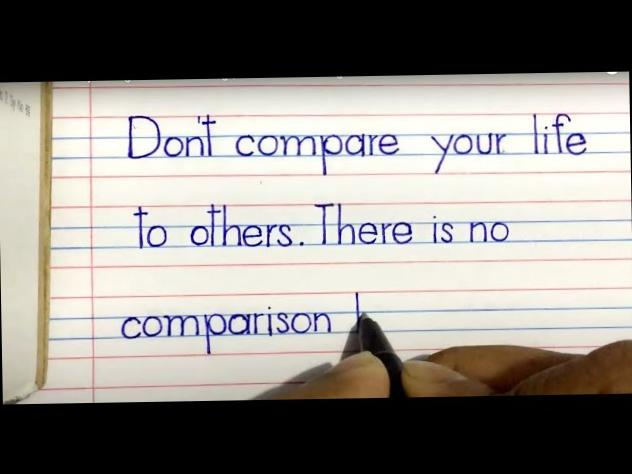text: (123, 106, 590, 182), (130, 196, 512, 255), (118, 290, 366, 358)
